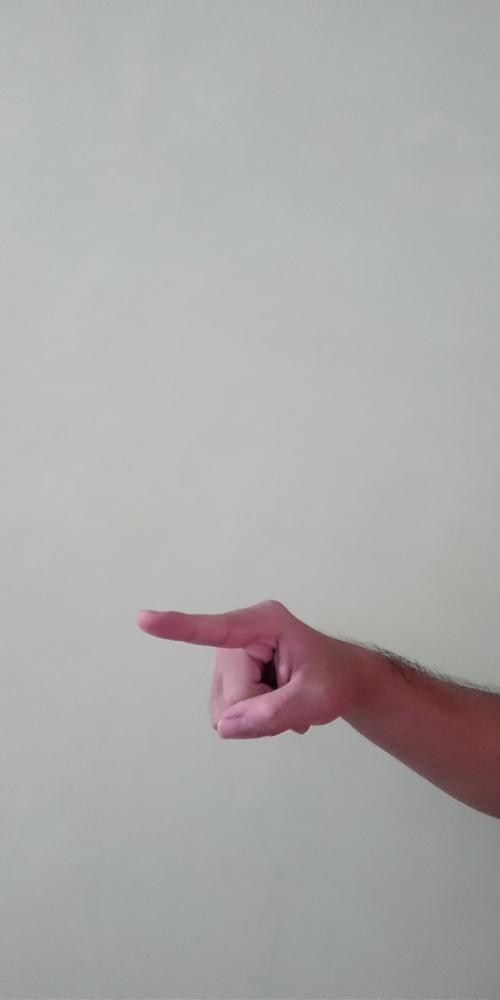z: (133, 596, 352, 740)
